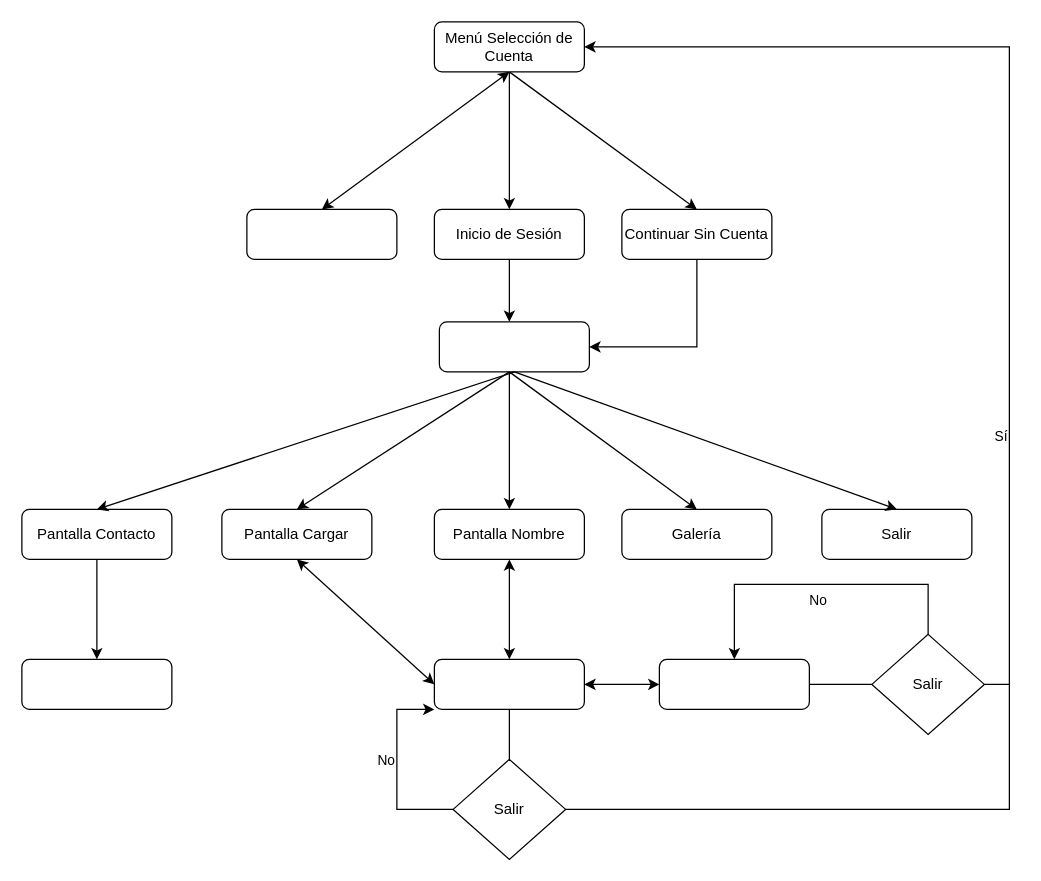
The diagram is 1041 pixels wide and 881 high, and some of its shapes have lost their labels. Each missing label, with the centre of its shape:
Menú Principal: the point at 513,346
Minijuego: the point at 733,683
Redes Sociales: the point at 96,683
Registro de Cuenta: the point at 321,233
Visual Novel: the point at 508,683
